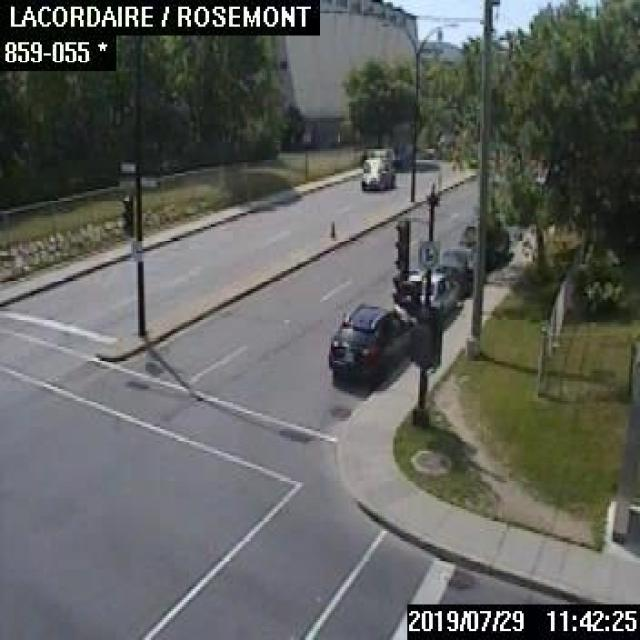vehicle: (328, 302, 406, 381), (402, 274, 458, 316), (460, 214, 508, 262), (435, 245, 473, 294), (360, 151, 393, 188)
